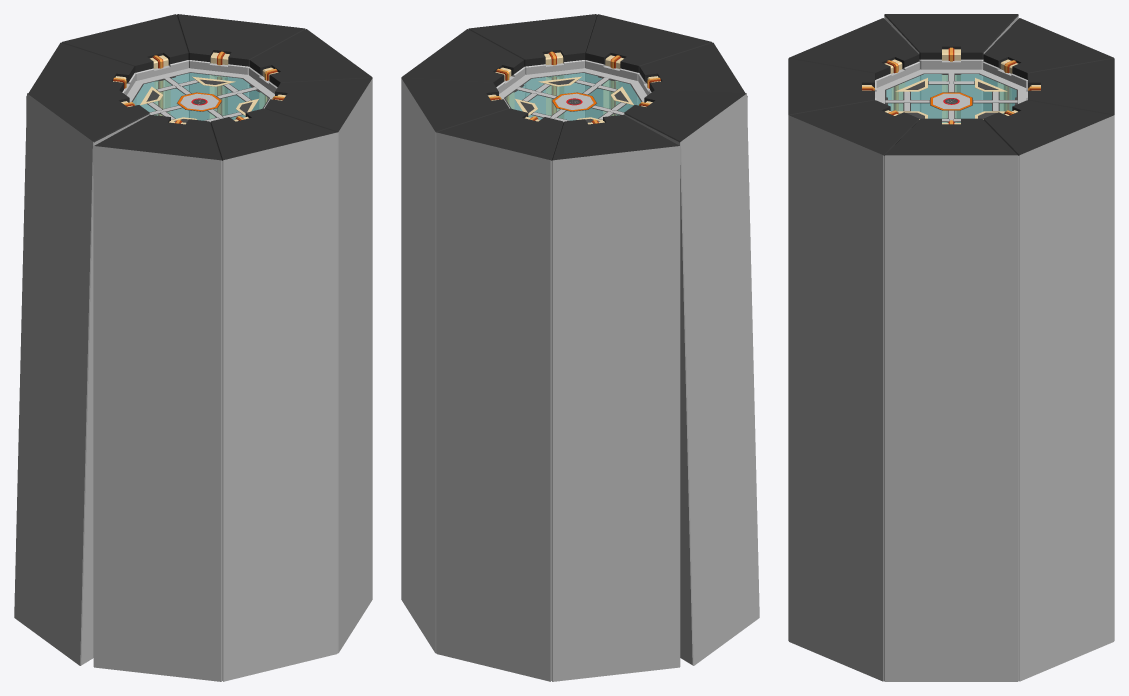
File: BobbleArena.fbx
3 views of the same model, side by side, from view 1: azimuth 30°, elevation 25°; view 2: azimuth 150°, elevation 25°; view 3: azimuth 270°, elevation 25° (orthographic).
Visible parts, largest first — view 1: Outer Wall.008, Outer Wall.005, Outer Wall.007, Outer Wall.001, Outer Wall.003, Outer Wall.004, Outer Wall.002, Outer Wall.006, Glass Floor, Outer Octagon, Inner Octagon, Floor Piece; view 2: Outer Wall.006, Outer Wall.004, Outer Wall.007, Outer Wall.003, Outer Wall.001, Outer Wall.005, Outer Wall.002, Outer Wall.008, Glass Floor, Outer Octagon, Inner Octagon, Floor Piece.003 (+1 smaller); view 3: Outer Wall.002, Outer Wall.003, Outer Wall.001, Outer Wall.007, Outer Wall.008, Outer Wall.006, Outer Wall.004, Outer Wall.005, Glass Floor, Outer Octagon, Inner Octagon, Floor Piece.001 (+1 smaller).
Part boxes in pixels (<box>): Outer Wall.008: <box>93,114,222,681</box>; Outer Wall.005: <box>210,108,337,681</box>; Outer Wall.007: <box>14,90,149,665</box>; Outer Wall.001: <box>264,78,372,653</box>; Outer Wall.003: <box>177,14,305,120</box>; Outer Wall.004: <box>61,14,188,118</box>; Outer Wall.002: <box>249,29,372,110</box>; Outer Wall.006: <box>26,42,135,113</box>; Glass Floor: <box>133,73,268,120</box>; Outer Octagon: <box>127,68,274,108</box>; Inner Octagon: <box>177,92,221,111</box>; Floor Piece: <box>156,76,235,94</box>; Outer Wall.006: <box>551,114,680,681</box>; Outer Wall.004: <box>436,108,563,681</box>; Outer Wall.007: <box>624,90,759,665</box>; Outer Wall.003: <box>401,78,509,653</box>; Outer Wall.001: <box>468,14,596,120</box>; Outer Wall.005: <box>585,14,712,118</box>; Outer Wall.002: <box>401,29,524,110</box>; Outer Wall.008: <box>638,42,747,113</box>; Glass Floor: <box>505,73,640,120</box>; Outer Octagon: <box>499,68,646,108</box>; Inner Octagon: <box>552,92,596,111</box>; Floor Piece.003: <box>513,76,581,101</box>; Outer Wall.002: <box>884,118,1018,681</box>; Outer Wall.003: <box>983,100,1113,681</box>; Outer Wall.001: <box>789,100,919,681</box>; Outer Wall.007: <box>884,14,1018,122</box>; Outer Wall.008: <box>789,18,919,113</box>; Outer Wall.006: <box>983,18,1113,113</box>; Outer Wall.004: <box>1026,58,1114,640</box>; Outer Wall.005: <box>788,58,876,640</box>; Glass Floor: <box>886,74,1016,122</box>; Outer Octagon: <box>876,69,1026,103</box>; Inner Octagon: <box>930,92,972,110</box>; Floor Piece.001: <box>928,73,1007,92</box>.
Size of the model in its own units: 267 by 459 by 256.
